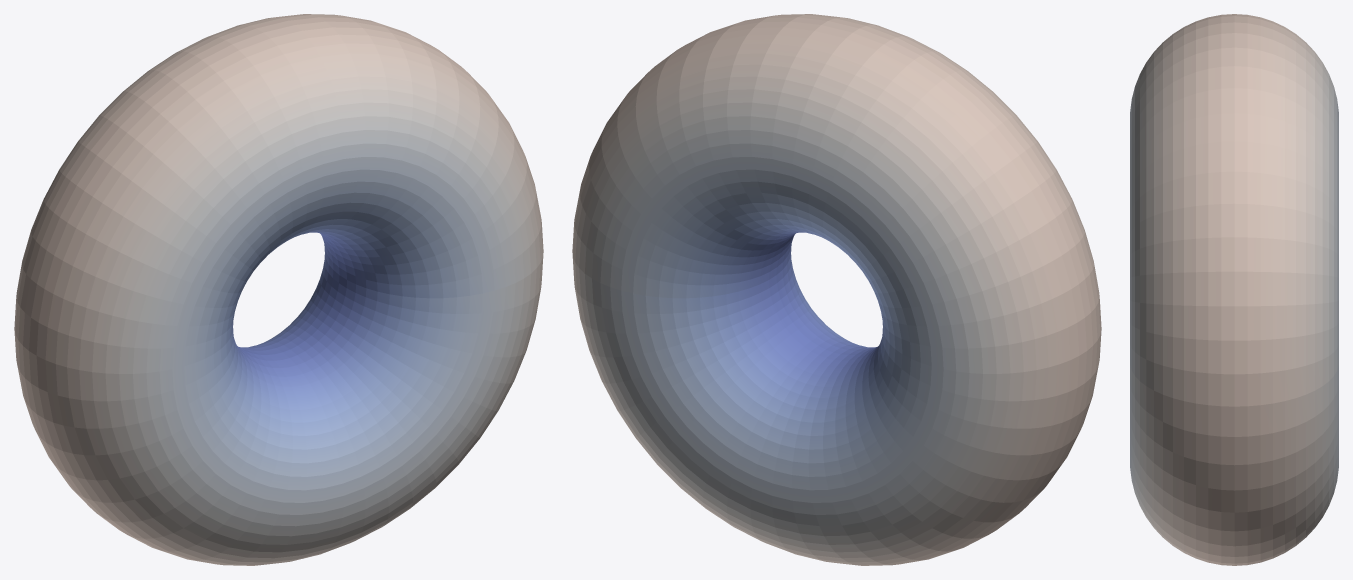
3 renders of one model, left to right at view 1: azimuth 30°, elevation 25°; view 2: azimuth 150°, elevation 25°; view 3: azimuth 270°, elevation 25°, orthographic. The views are drawn at different scales.
Visible parts, largest first — view 1: world; view 2: world; view 3: world.
Boxes of the visible parts, box(x1,y1,x2,y2) form: world: box(14, 14, 543, 565); world: box(572, 14, 1101, 565); world: box(1130, 14, 1338, 565).
Size of the model in its own units: 21.47 by 21.42 by 8.12.
